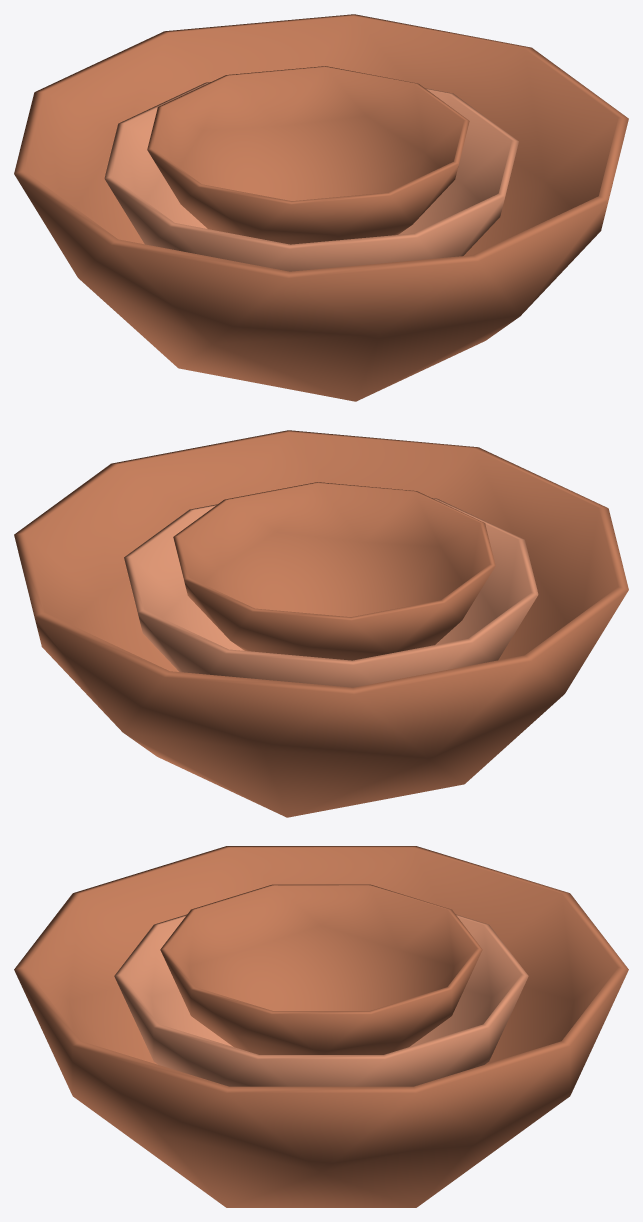
The model's file is dish-type-01.obj.
3 renders of one model, top to bottom at view 1: azimuth 30°, elevation 25°; view 2: azimuth 150°, elevation 25°; view 3: azimuth 270°, elevation 25°, orthographic. The views are drawn at different scales.
Parts seen in each view (by area): view 1: dish-type-01; view 2: dish-type-01; view 3: dish-type-01.
Boxes of the visible parts, x1=… form: dish-type-01: x1=14, y1=14, x2=628, y2=401; dish-type-01: x1=14, y1=430, x2=628, y2=817; dish-type-01: x1=14, y1=846, x2=628, y2=1207.
Size of the model in its own units: 0.1205 by 0.0505 by 0.1267.
